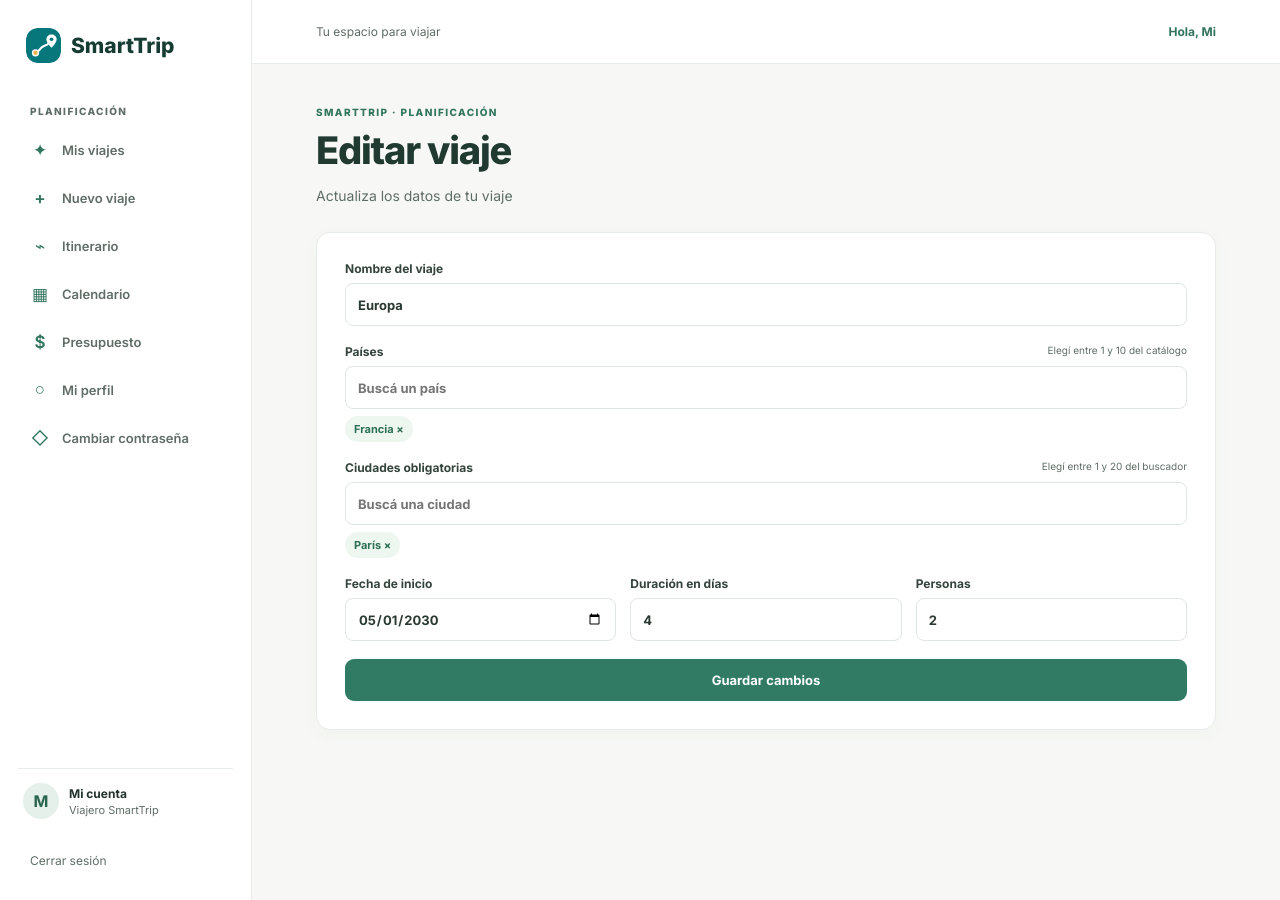
it: EditTrip › envía solo los campos que cambiaron
This screenshot has width=1280, height=900.
Replace the text in the field labelled "Nombre del viaje" with "Europa 2030": (766, 304) [345,283,1187,326]
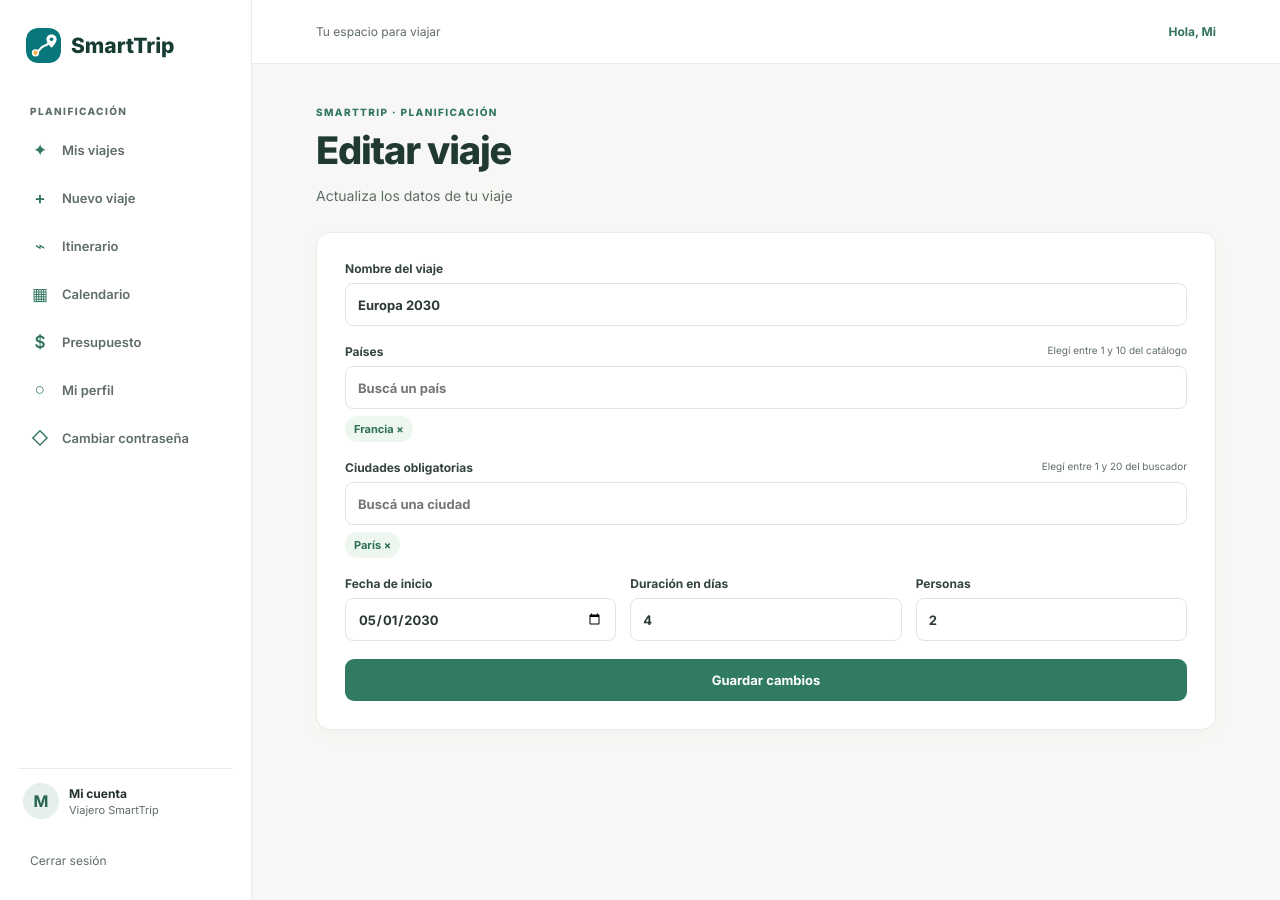
Replace the text in the number field labelled "Personas" with "4": (1051, 620) [916,598,1187,641]
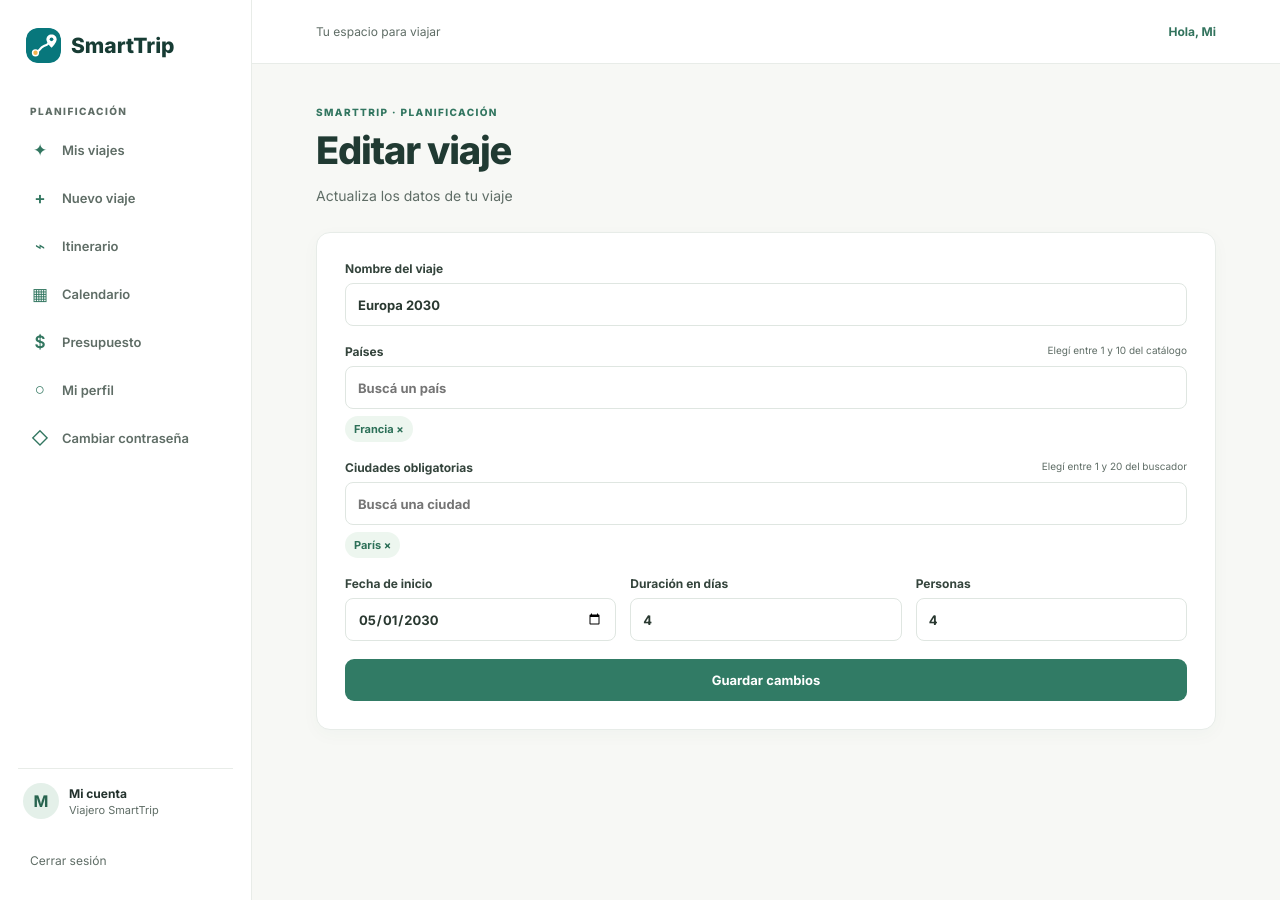
Click the button "Guardar cambios": (766, 680) [345,659,1187,701]
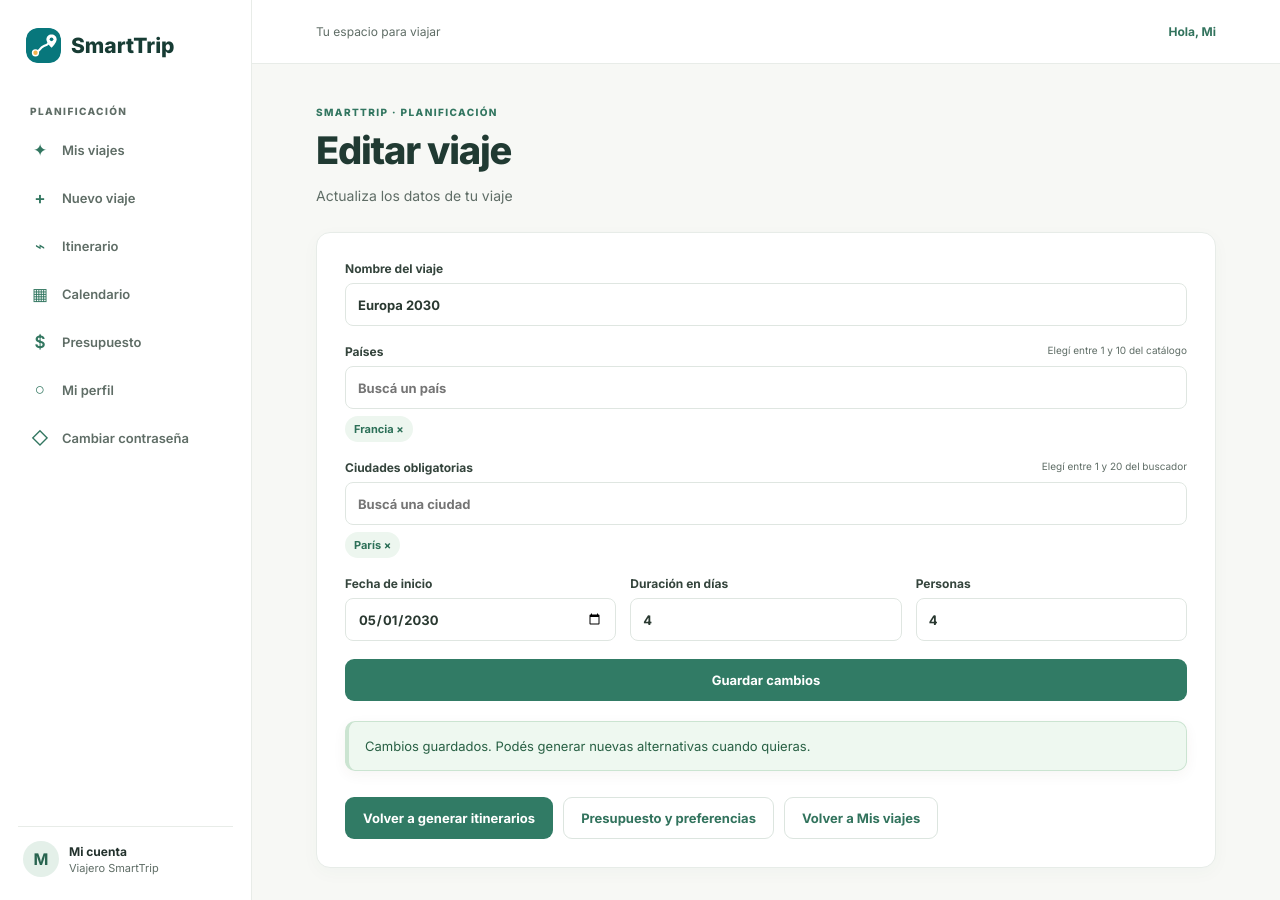
Expected: the text "Cambios guardados. Podés generar nuevas alternativas cuando quieras." is shown, [345,721,1187,771]
